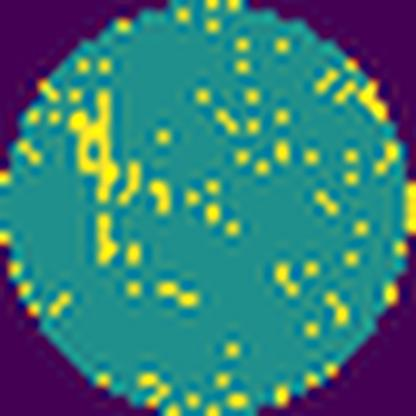Loc: (68, 89, 121, 200), (93, 210, 116, 263)
